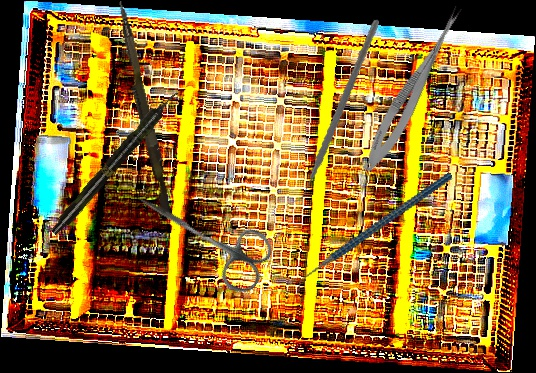Chopper: (258, 18, 406, 207), (275, 172, 473, 297)
Handpiece: (47, 86, 183, 239)
Iris Scissors: (122, 173, 280, 299)
Micro Scissor: (357, 0, 468, 178)
Pusher: (108, 0, 178, 216)
